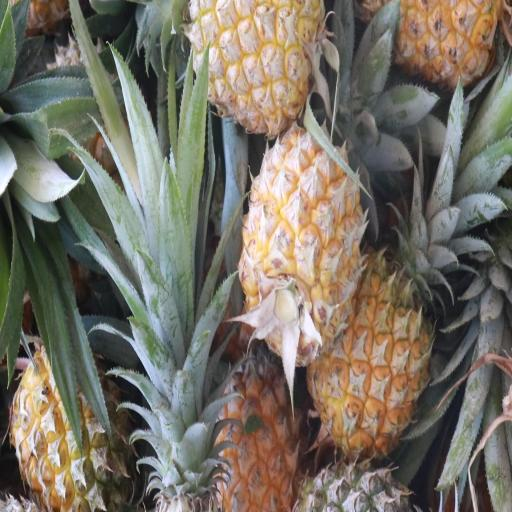------------------------------: (12, 343, 133, 512)
Pineapple - v8 v1: (242, 129, 360, 359), (309, 256, 429, 456), (184, 0, 318, 128), (207, 353, 302, 512)
